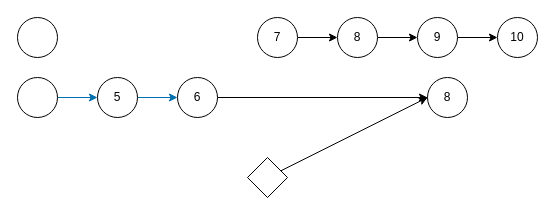
Image size: 555x215. Some labels were removed from this diagram. Each missing label, with the centre of its shape:
"list" goes at [37,37].
"list2" goes at [37,97].
"temp" goes at [267,177].
